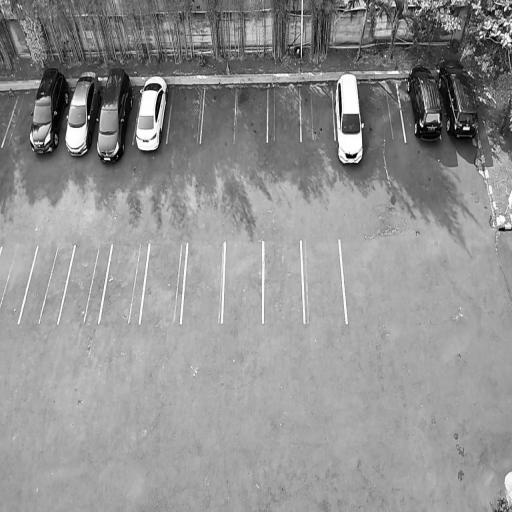Car: (21, 63, 73, 160), (91, 59, 137, 164), (433, 58, 484, 140), (61, 68, 104, 160), (402, 60, 447, 146), (133, 70, 172, 153), (333, 73, 367, 167)
Space Available: (57, 244, 113, 324), (18, 246, 75, 324), (100, 242, 150, 321), (140, 241, 187, 324), (300, 240, 345, 323), (181, 244, 225, 325), (222, 239, 263, 324), (263, 239, 303, 322), (0, 244, 38, 324), (167, 86, 205, 143), (2, 87, 37, 147), (200, 86, 237, 142), (234, 86, 269, 141), (300, 86, 335, 140), (268, 85, 301, 140)
